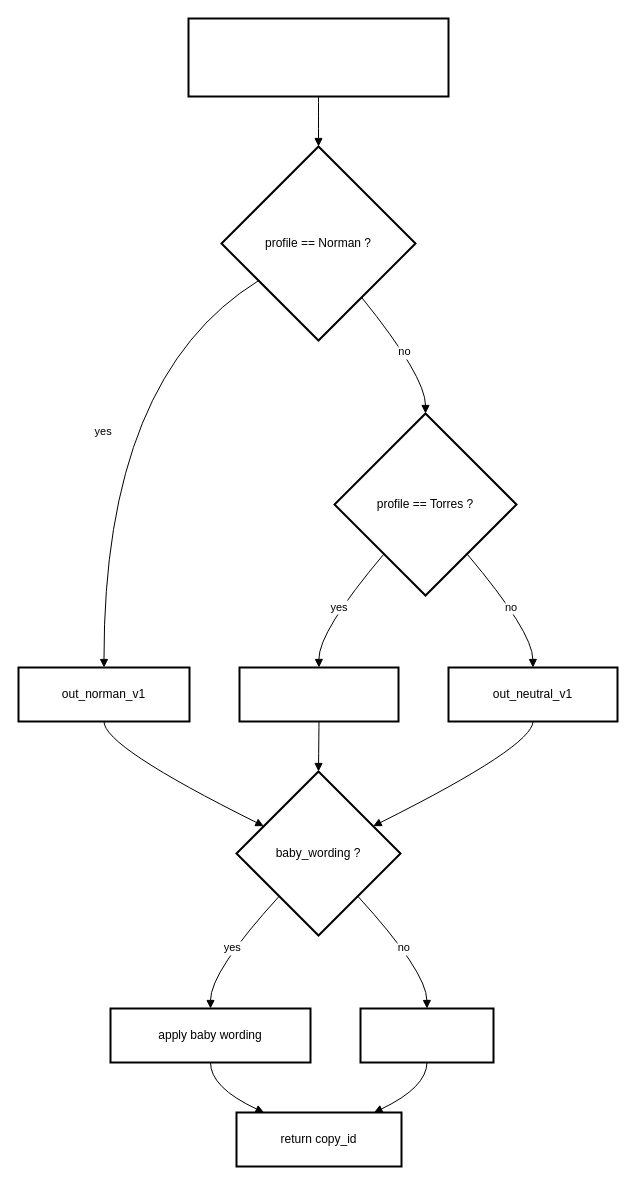
The diagram is 635 pixels wide and 1184 high, and some of its shapes have lost their labels. Each missing label, with the centre of its shape:
"no change" belongs at [426,1035].
"out_torres_v1" belongs at [318,694].
"pickOutro(profile, baby_wording)" belongs at [318,57].
